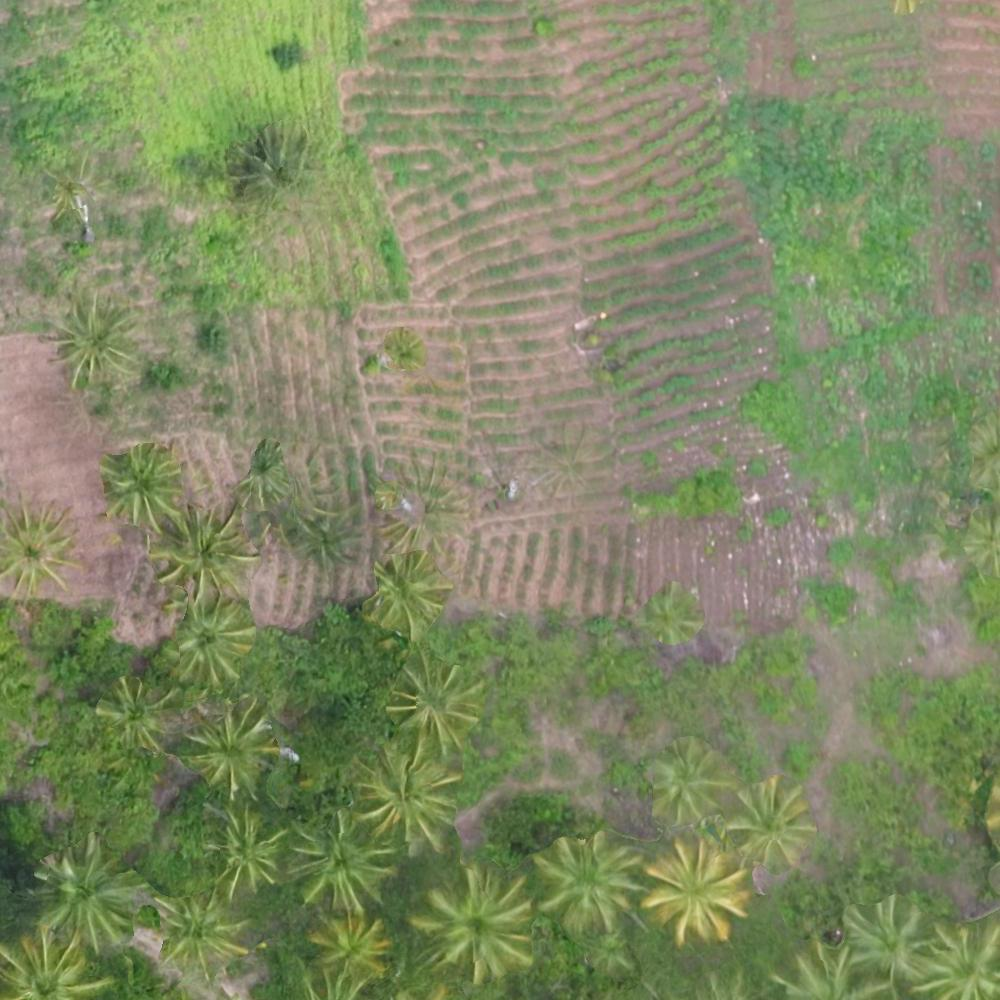Palm: (415, 862, 532, 979), (35, 838, 141, 949), (532, 835, 645, 930), (646, 841, 748, 942), (288, 815, 392, 910), (154, 505, 252, 600), (355, 745, 451, 840), (151, 885, 250, 975), (390, 651, 481, 744), (1, 925, 113, 1000), (184, 701, 270, 797), (1, 497, 85, 595), (46, 295, 133, 382), (840, 896, 926, 980), (203, 808, 284, 896), (235, 128, 320, 210), (174, 600, 257, 683), (913, 919, 1000, 998), (99, 443, 180, 525), (730, 781, 810, 864), (644, 744, 724, 822), (369, 555, 448, 633), (303, 910, 384, 982), (96, 678, 175, 751)
